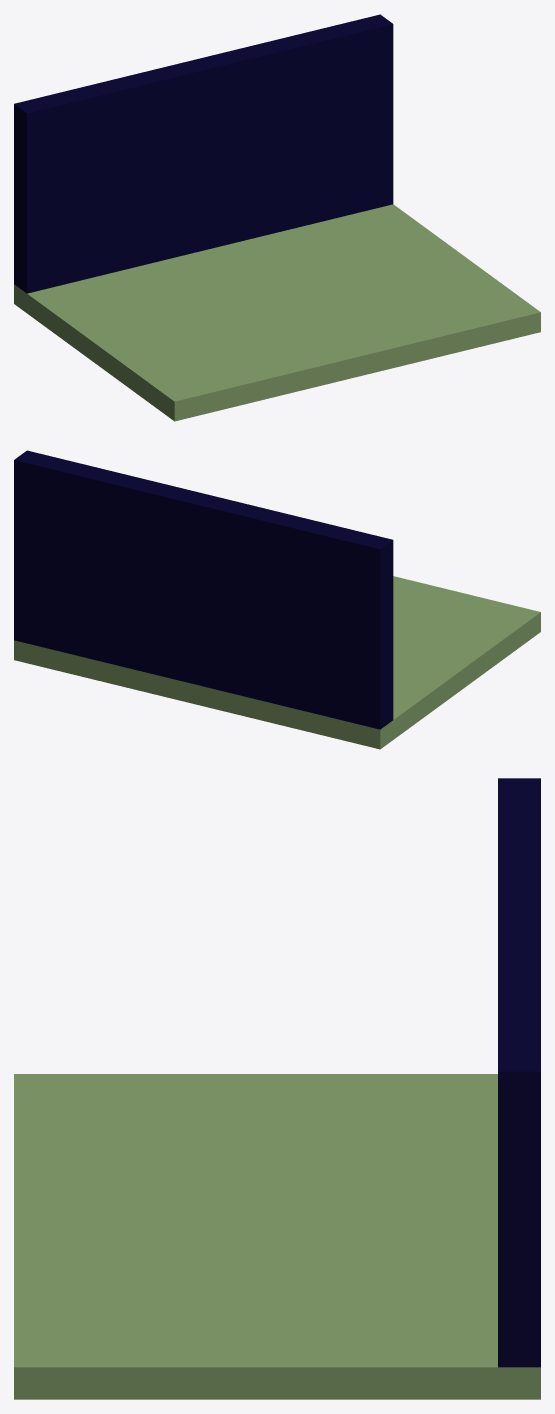
The model's file is quick.fbx.
3 renders of one model, top to bottom at view 1: azimuth 30°, elevation 25°; view 2: azimuth 150°, elevation 25°; view 3: azimuth 270°, elevation 25°, orthographic. The views are drawn at different scales.
Parts seen in each view (by area): view 1: Cube; view 2: Cube; view 3: Cube.
Boxes of the visible parts, x1,y1,x2,y2 form: Cube: (14,14,540,421); Cube: (14,450,540,749); Cube: (14,778,540,1399).
Size of the model in its own units: 1077 by 562 by 818.
